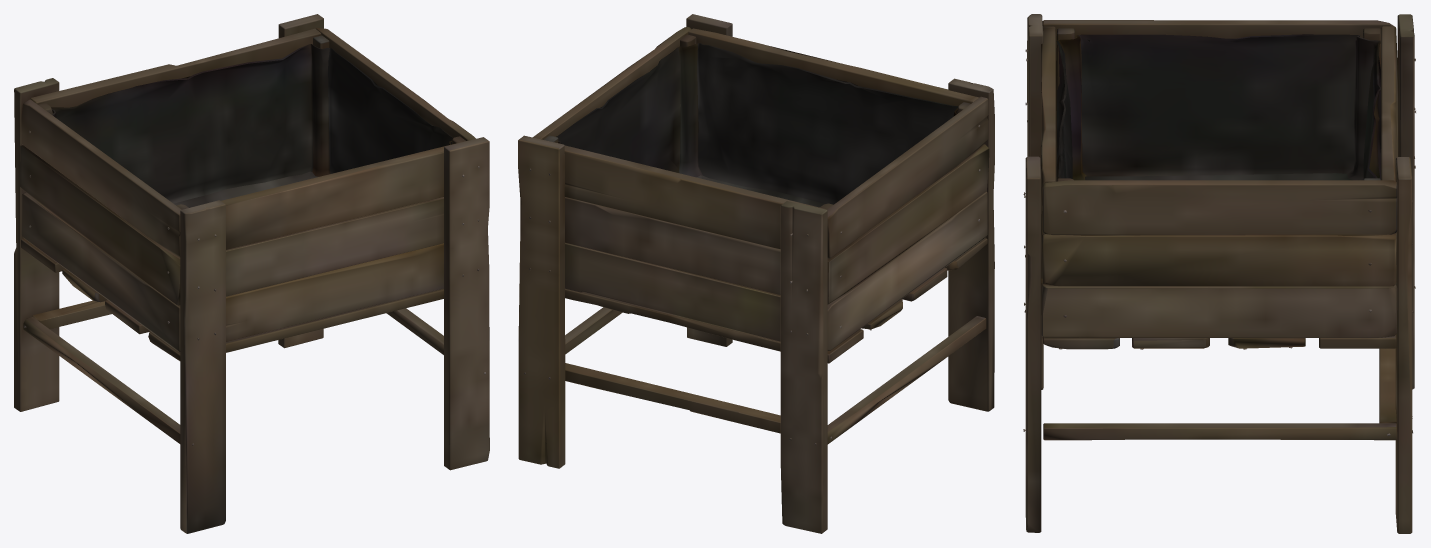
Rendered from ph-planter-box-03.glb.
3 renders of one model, left to right at view 1: azimuth 30°, elevation 25°; view 2: azimuth 150°, elevation 25°; view 3: azimuth 270°, elevation 25°, orthographic. The views are drawn at different scales.
Visible parts, largest first — view 1: planter_box_03; view 2: planter_box_03; view 3: planter_box_03.
Boxes of the visible parts, bbox=[...] form: planter_box_03: bbox=[14, 14, 489, 533]; planter_box_03: bbox=[518, 14, 994, 533]; planter_box_03: bbox=[1023, 14, 1415, 533].
Size of the model in its own units: 1 by 1 by 1.
Materials: 1 (1 with a texture image).
